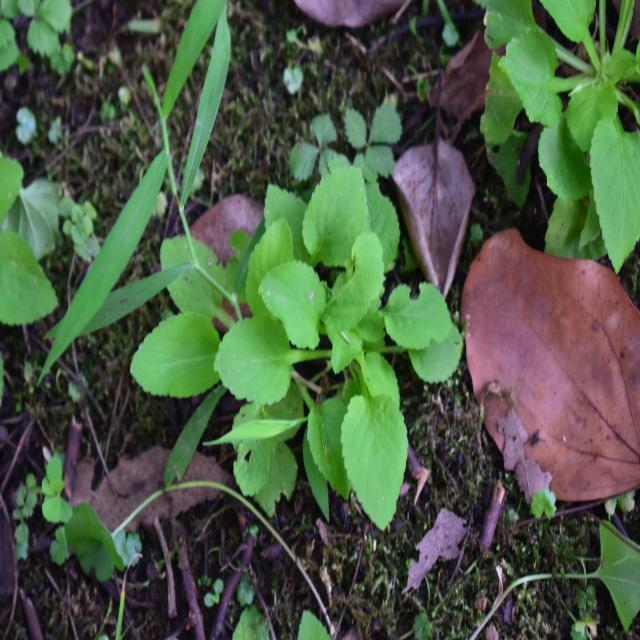Viola: (162, 175, 449, 498)
